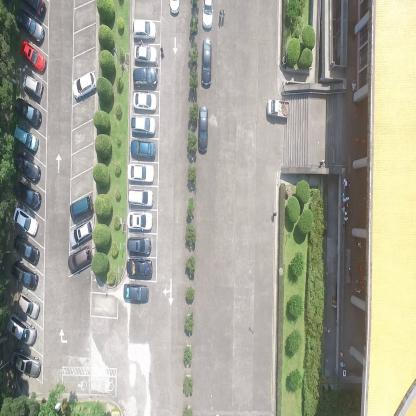car: (18, 38, 47, 74), (7, 312, 37, 346), (17, 8, 45, 44), (10, 348, 42, 378), (12, 233, 40, 266), (14, 99, 43, 130), (12, 154, 41, 185), (10, 258, 38, 290), (13, 181, 42, 211), (69, 217, 94, 250), (67, 244, 91, 277), (13, 124, 39, 153), (12, 207, 38, 236), (72, 70, 96, 100), (16, 293, 41, 321), (69, 194, 93, 222), (201, 37, 213, 89), (130, 114, 157, 136), (122, 283, 150, 304), (266, 97, 290, 121), (197, 106, 209, 154), (132, 66, 157, 89), (130, 138, 156, 160), (127, 211, 153, 233), (127, 187, 154, 208), (126, 258, 153, 279), (22, 74, 44, 99), (127, 163, 154, 183), (133, 18, 157, 40), (132, 91, 157, 111), (134, 42, 157, 63), (127, 236, 152, 254), (22, 0, 45, 18), (202, 0, 214, 30), (167, 0, 180, 18)
